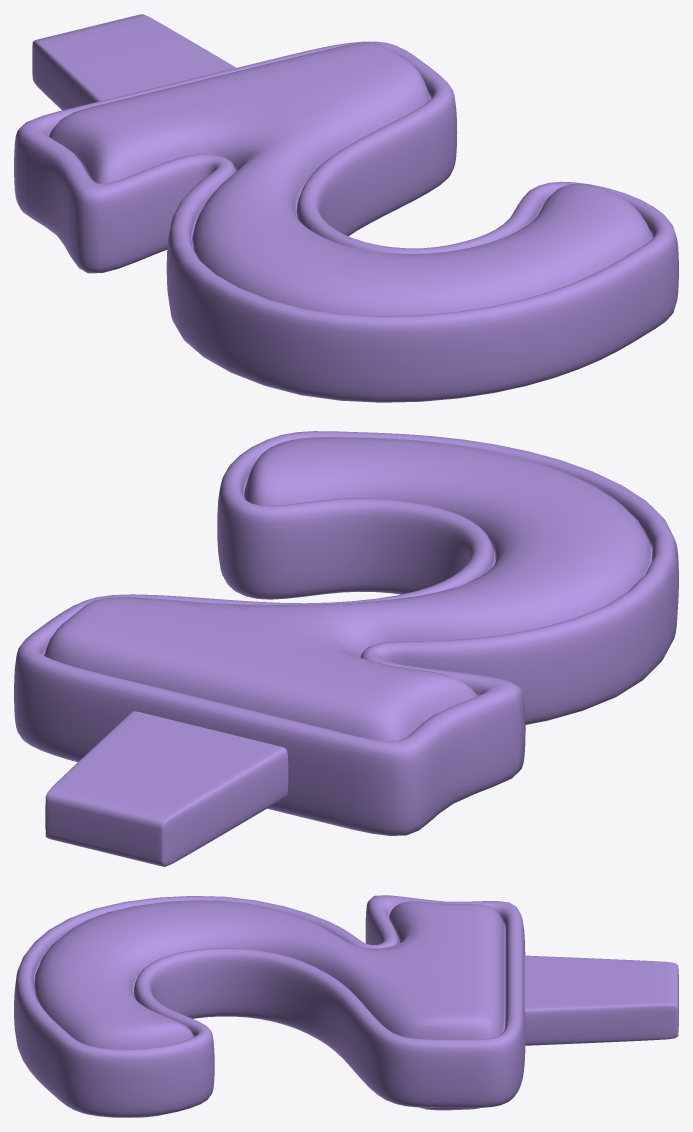
The picture shows the model from 3 angles, top to bottom: view 1: azimuth 30°, elevation 25°; view 2: azimuth 150°, elevation 25°; view 3: azimuth 270°, elevation 25°; orthographic projection. The views are drawn at different scales.
Parts seen in each view (by area): view 1: _Number_2_v1:_Number_2_v1; view 2: _Number_2_v1:_Number_2_v1; view 3: _Number_2_v1:_Number_2_v1.
Boxes of the visible parts, bbox=[...] form: _Number_2_v1:_Number_2_v1: bbox=[14, 14, 678, 402]; _Number_2_v1:_Number_2_v1: bbox=[14, 431, 678, 866]; _Number_2_v1:_Number_2_v1: bbox=[14, 895, 678, 1117].
Size of the model in its own units: 7.49 by 1.99 by 12.88.
